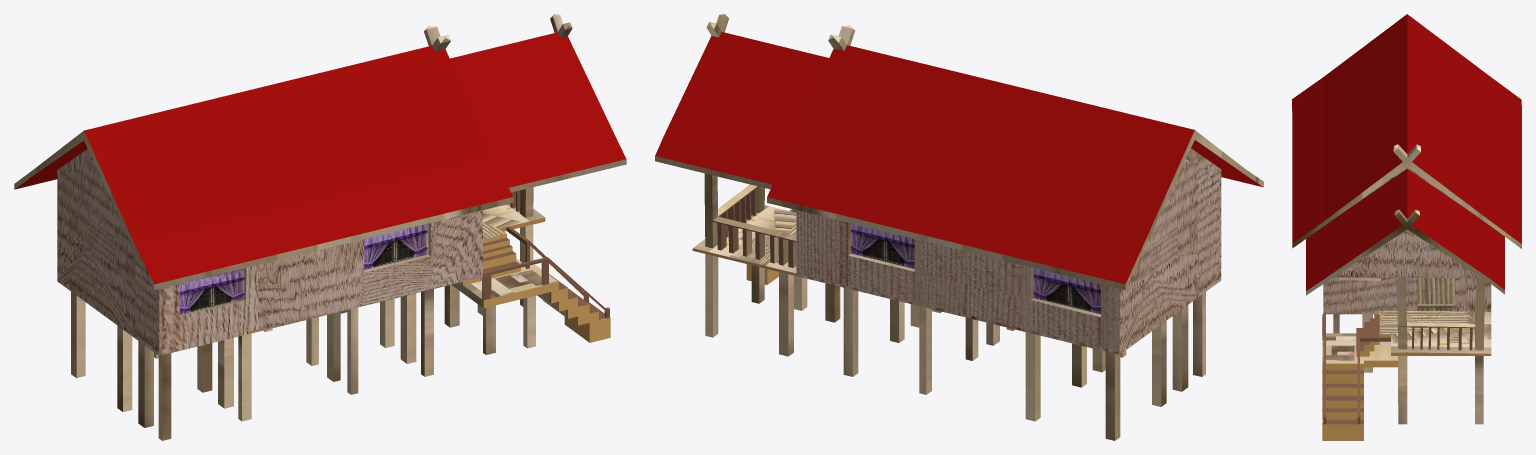
Rendered from rumahTEST.glb.
3 views of the same model, side by side, from view 1: azimuth 30°, elevation 25°; view 2: azimuth 150°, elevation 25°; view 3: azimuth 270°, elevation 25° (orthographic). The views are drawn at different scales.
Visible parts, largest first — view 1: Rumah; view 2: Rumah; view 3: Rumah.
Boxes of the visible parts, bbox=[...] form: Rumah: bbox=[14, 14, 626, 440]; Rumah: bbox=[655, 14, 1263, 440]; Rumah: bbox=[1292, 14, 1521, 440].
Bounding box in the file's own units: 1.3 × 0.7714 × 0.6525.
Materials: 7 (3 with a texture image).
